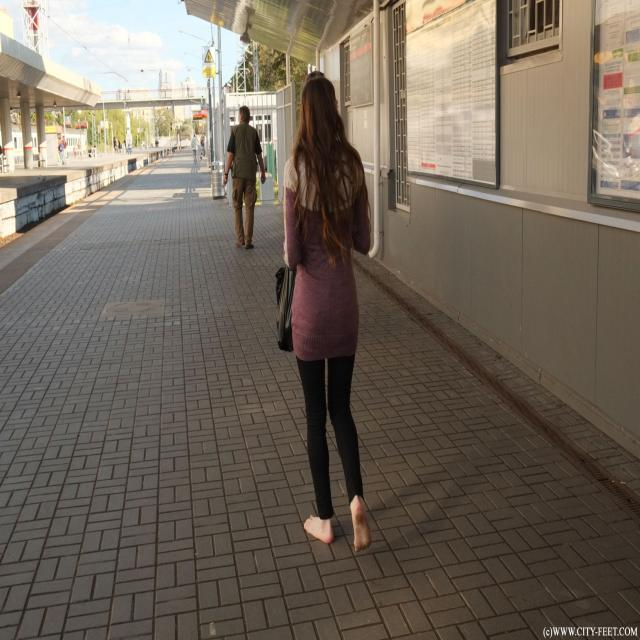Barefoots: (352, 501, 372, 552), (304, 514, 334, 544)
